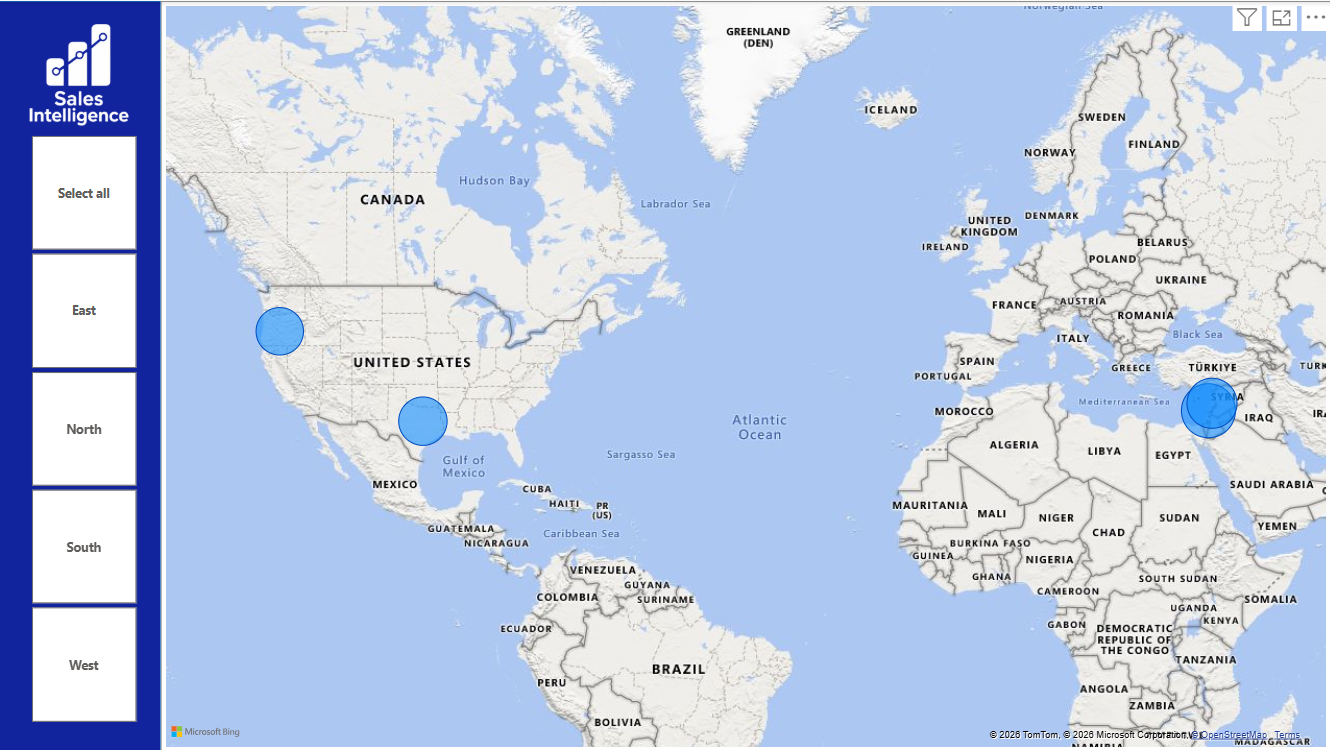

This screenshot's page, from the dashboard's own definition file:
{"tool":"powerbi","page":{"name":"Map","canvas":[1280,720],"ordinal":3},"visuals":[{"type":"shape","box":[0,0,157.4,720],"z":0},{"type":"image","box":[0,0,157.4,145.8],"z":1000},{"type":"map","fields":{"Category":["Customer_Dim.Region"],"Size":["Measures Table.Total Revenue"]},"box":[157.3,0,1122.5,719.9],"z":1001},{"type":"slicer","fields":{"Values":["Customer_Dim.Region"]},"box":[7.2,122.6,150,575.7],"z":1002}]}

Visuals, with their boxes in screenshot pixels (x1, y1, x2, y2), scaled from the page's 1280x720 canvas onto the 1330x750 screenshot:
shape: (0, 0, 164, 749)
image: (0, 0, 164, 152)
map - Customer_Dim.Region x Measures Table.Total Revenue: (163, 0, 1329, 749)
slicer - Customer_Dim.Region: (7, 128, 163, 727)
